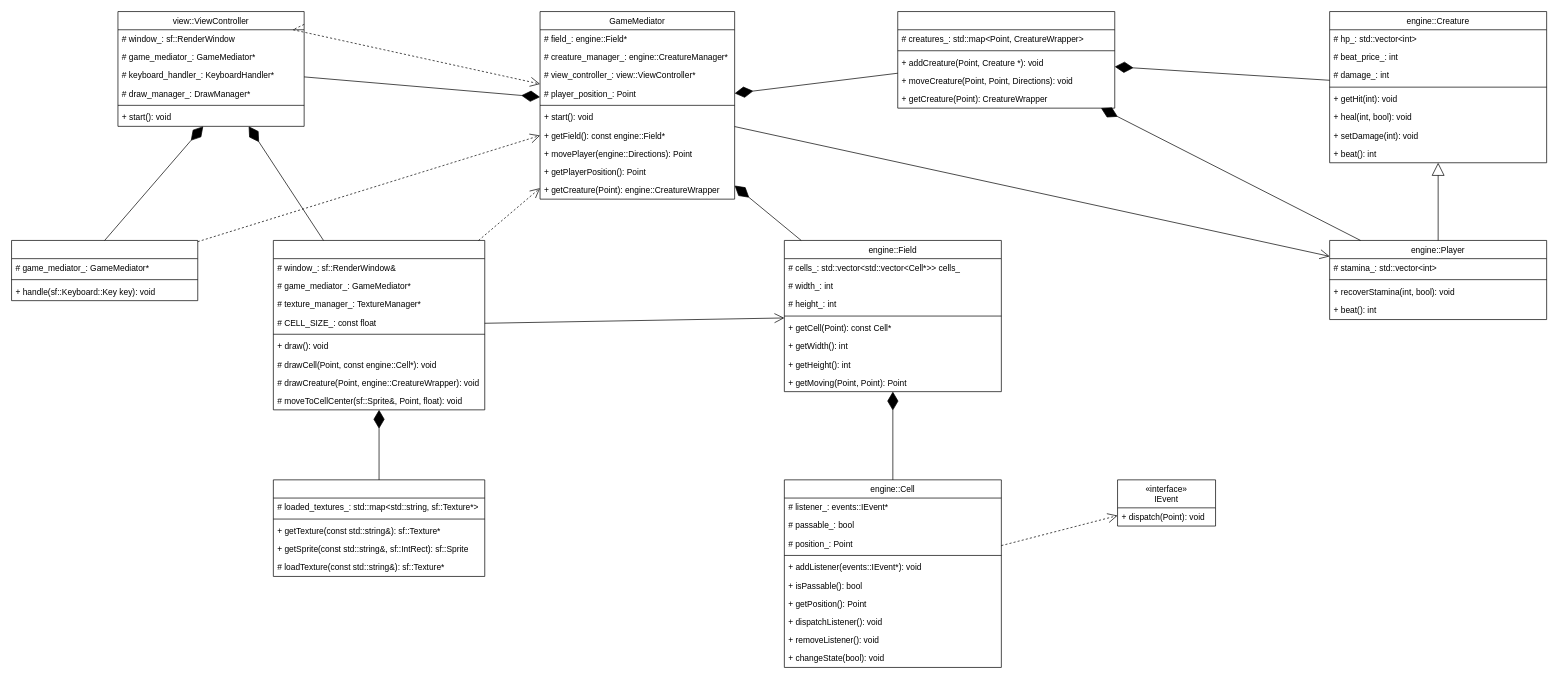
Image size: 1558x679. Some labels were removed from this diagram. The shapes that lost their labels are listed below. From the top down, each one's box as (x1, y1, x2, y2) in pixels, then its label:
(897, 11, 1115, 108): engine::CreatureManager
(11, 240, 198, 301): view::KeyboardHandler
(273, 240, 485, 410): view::DrawManager
(273, 479, 485, 576): view::TextureManager
